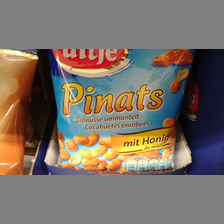nuts: (48, 49, 195, 171)
